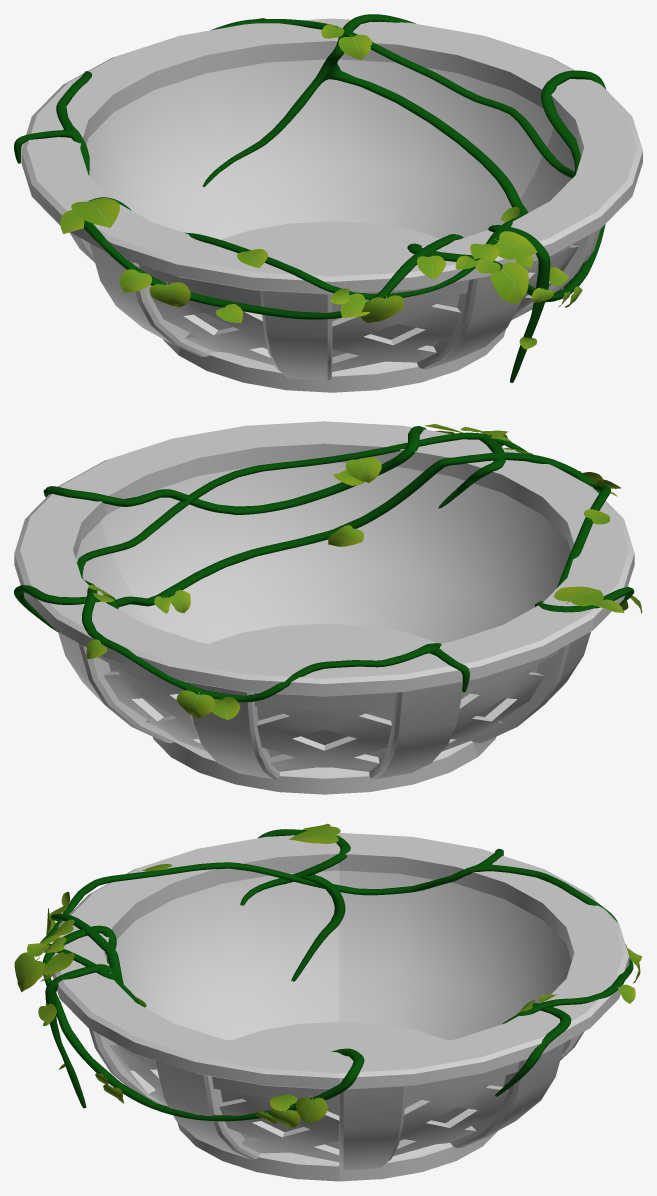
Rendered from Inter_Basket2.fbx.
3 views of the same model, one above another, from view 1: azimuth 30°, elevation 25°; view 2: azimuth 150°, elevation 25°; view 3: azimuth 270°, elevation 25° (orthographic). The views are drawn at different scales.
Parts seen in each view (by area): view 1: Inter_Basket, BasketVine, Plane_Low.024, Plane_Low.040, Plane_Low.025, Plane_Low.036, Plane_Low.042, Plane_Low.049, Plane_Low.044; view 2: Inter_Basket, BasketVine, Plane_Low.040, Plane_Low.051, Plane_Low.058, Plane_Low.056; view 3: Inter_Basket, BasketVine, Plane_Low.024, Plane_Low.045, Plane_Low.040.
Boxes of the visible parts, x1,y1,x2,y2 form: Inter_Basket: (21,18,642,392); BasketVine: (14,14,606,382); Plane_Low.024: (490,262,528,304); Plane_Low.040: (71,198,119,227); Plane_Low.025: (494,231,537,259); Plane_Low.036: (360,295,404,322); Plane_Low.042: (149,282,190,307); Plane_Low.049: (338,34,372,59); Plane_Low.044: (119,269,151,292); Inter_Basket: (14,421,634,794); BasketVine: (14,426,634,702); Plane_Low.040: (554,586,603,606); Plane_Low.051: (176,690,214,717); Plane_Low.058: (345,457,381,482); Plane_Low.056: (328,525,364,546); Inter_Basket: (51,833,629,1181); BasketVine: (40,829,633,1121); Plane_Low.024: (14,952,45,992); Plane_Low.045: (296,1096,327,1123); Plane_Low.040: (289,826,341,843).
Size of the model in its own units: 846 by 264 by 881.
